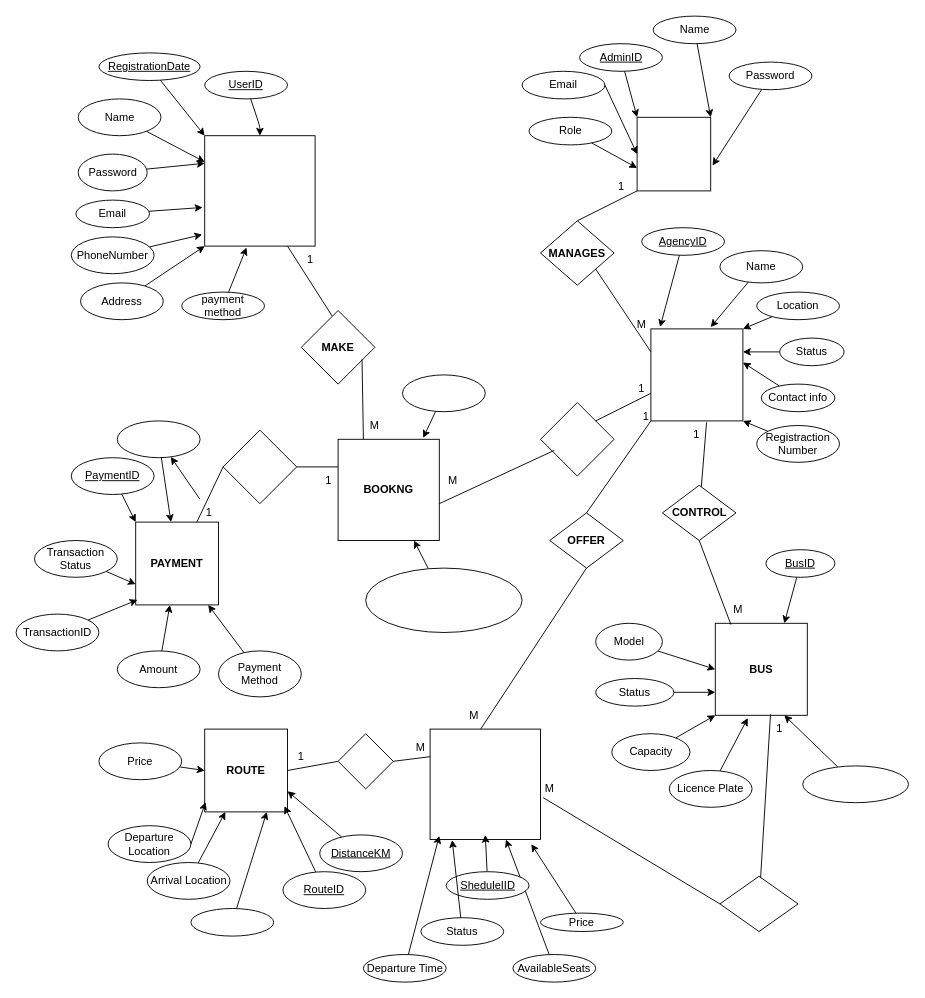
The diagram is 925 pixels wide and 998 high, and some of its shapes have lost their labels. The shapes that lost their labels are listed below. From the top down, each one's box as (x1, y1, x2, y2) in pixels, then its label:
(636, 116, 711, 191): ADMIN
(204, 135, 315, 246): USER/CUSTOMER
(402, 374, 485, 412): BookingID
(650, 328, 743, 421): AGENCY
(116, 420, 200, 458): Timestamp
(540, 402, 614, 476): LINKED
(222, 429, 297, 504): REQUIRES
(365, 567, 522, 632): Stutus (confirmed/peding/cancelled)
(337, 733, 393, 789): HAVE
(429, 728, 540, 840): SCHEDULE
(802, 765, 908, 803): LastMaintenaceDate
(190, 908, 274, 936): Duration
(719, 875, 798, 932): ASIGNED
